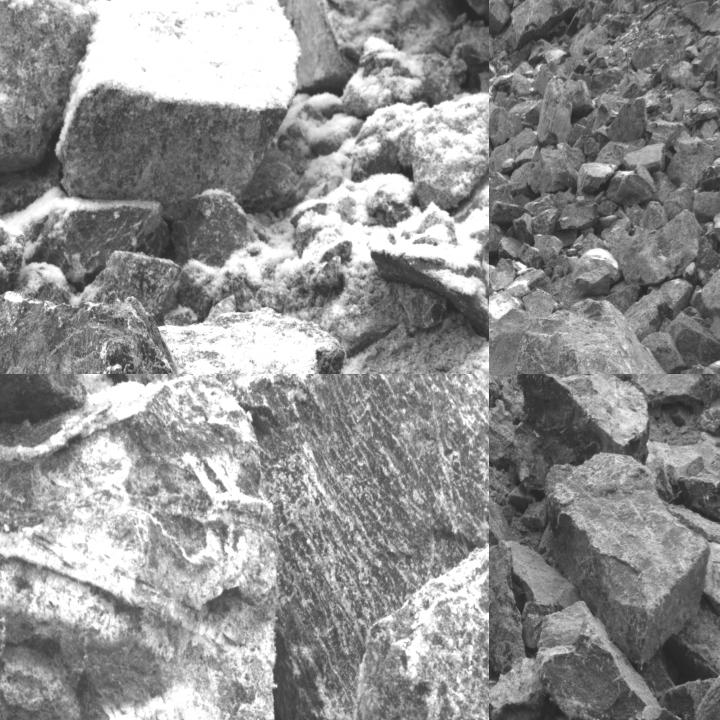stone: (108, 374, 488, 719), (0, 397, 305, 719), (57, 0, 305, 221), (546, 453, 710, 670), (353, 547, 488, 719), (512, 286, 719, 373), (0, 0, 98, 178), (536, 601, 663, 719), (158, 306, 379, 373), (27, 204, 159, 287), (518, 374, 650, 457), (621, 210, 719, 289), (80, 252, 181, 318), (509, 536, 574, 636), (489, 537, 525, 674), (503, 0, 580, 51), (676, 598, 719, 687), (489, 658, 549, 719), (489, 289, 530, 373), (661, 311, 719, 367), (530, 140, 584, 195), (668, 502, 719, 560), (652, 676, 719, 719), (675, 463, 719, 527), (489, 400, 528, 465), (537, 78, 573, 146), (656, 452, 703, 502), (667, 142, 715, 190), (642, 331, 694, 373), (489, 487, 514, 574), (627, 374, 709, 398), (606, 165, 655, 204), (607, 98, 646, 143), (695, 267, 719, 329), (560, 200, 600, 233), (623, 142, 666, 172), (578, 162, 619, 193), (707, 542, 719, 630), (490, 201, 534, 224), (695, 405, 719, 440), (489, 0, 511, 34), (530, 208, 556, 235), (497, 235, 524, 259), (709, 315, 719, 348)
